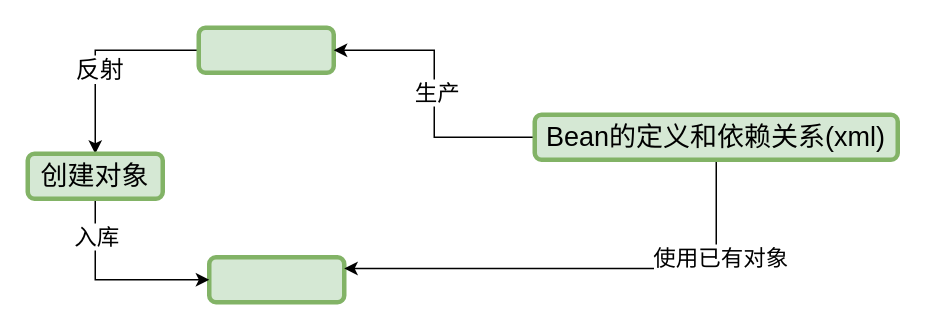
Some shapes in this 926 by 330 pixel diagram are drawn without their labels. The shapes that lost their labels are listed below. From the top down, each one's centre as x and y in pixels, then its label:
pixel 265 49: 工厂
pixel 276 279: 容器
